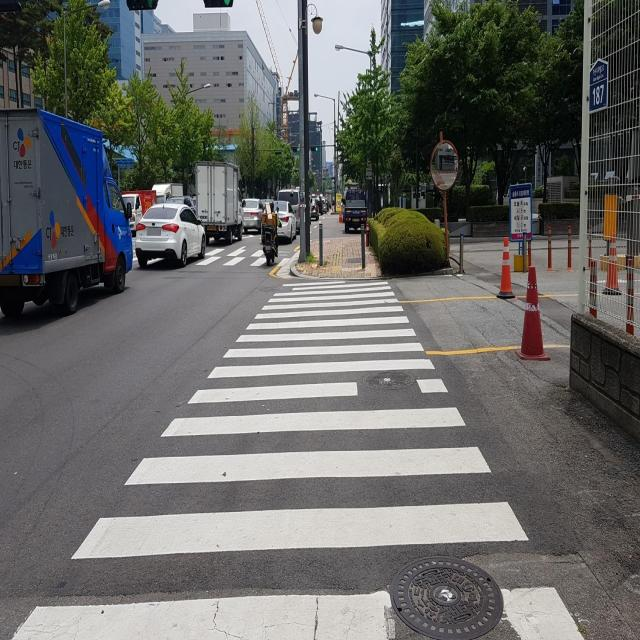횡단보도: (9, 275, 588, 640), (193, 239, 288, 270)
